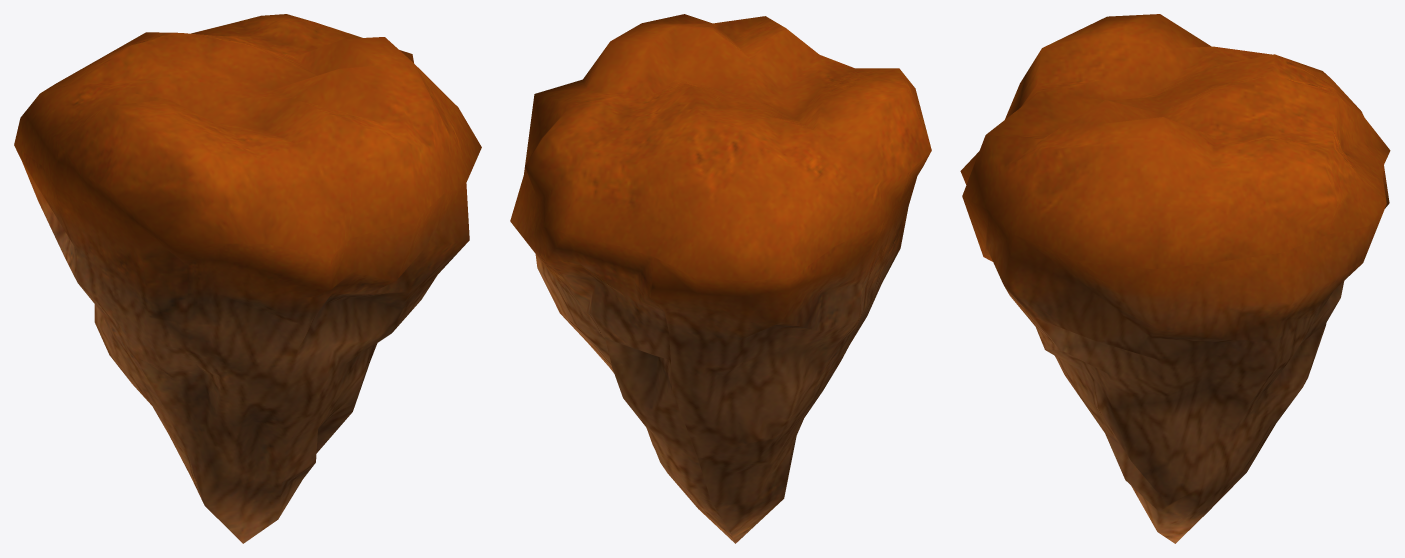
The model's file is isle_3.fbx.
The picture shows the model from 3 angles, left to right: view 1: azimuth 30°, elevation 25°; view 2: azimuth 150°, elevation 25°; view 3: azimuth 270°, elevation 25°; orthographic projection. The views are drawn at different scales.
Parts seen in each view (by area): view 1: isle_3; view 2: isle_3; view 3: isle_3.
Part boxes in pixels (x1,y1,x2,y2): isle_3: [14, 14, 481, 543]; isle_3: [510, 14, 931, 543]; isle_3: [960, 14, 1390, 543].
Size of the model in its own units: 133 by 169 by 140.
